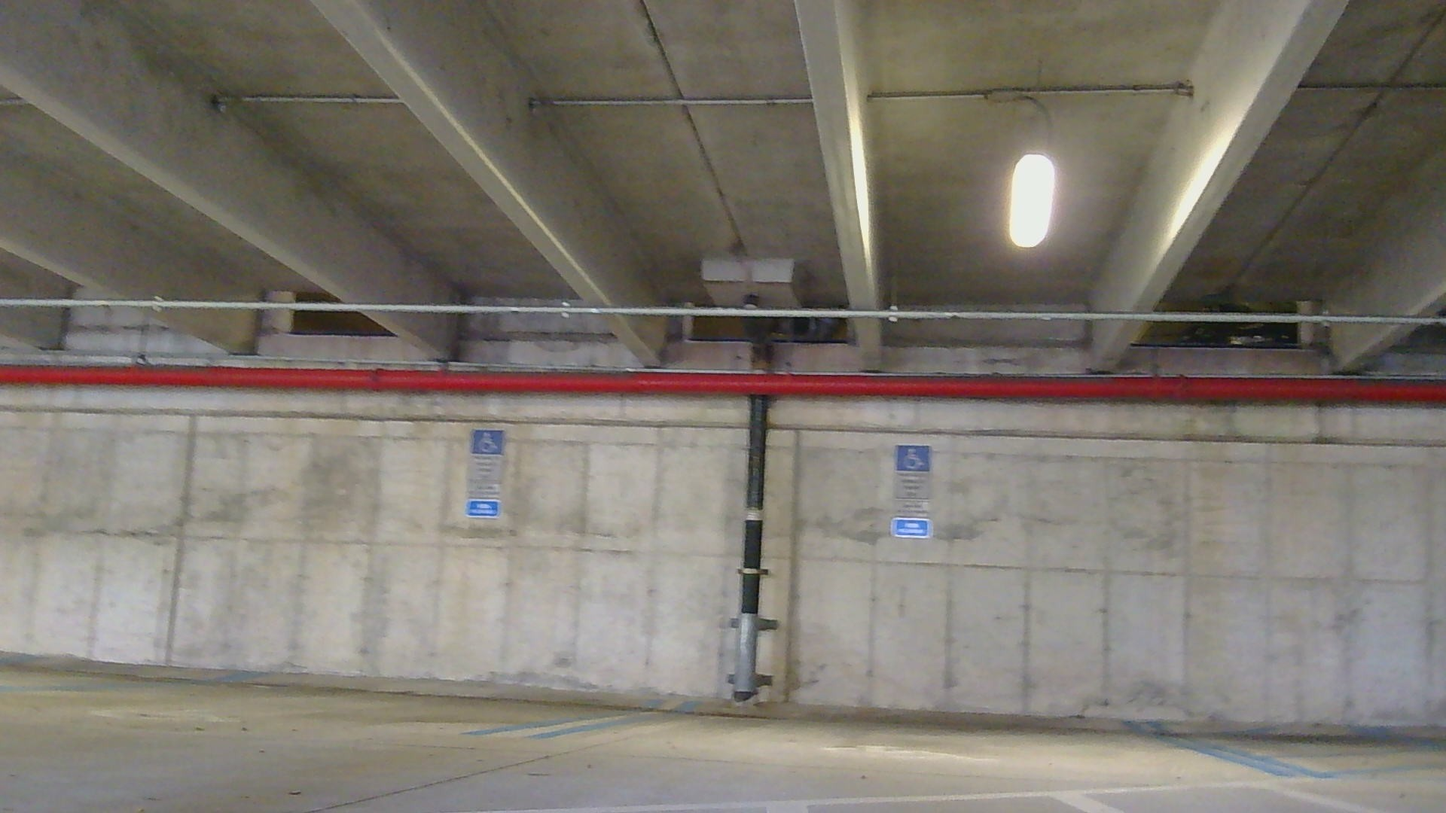empty_spot: (523, 616, 1309, 777), (0, 575, 653, 737)
